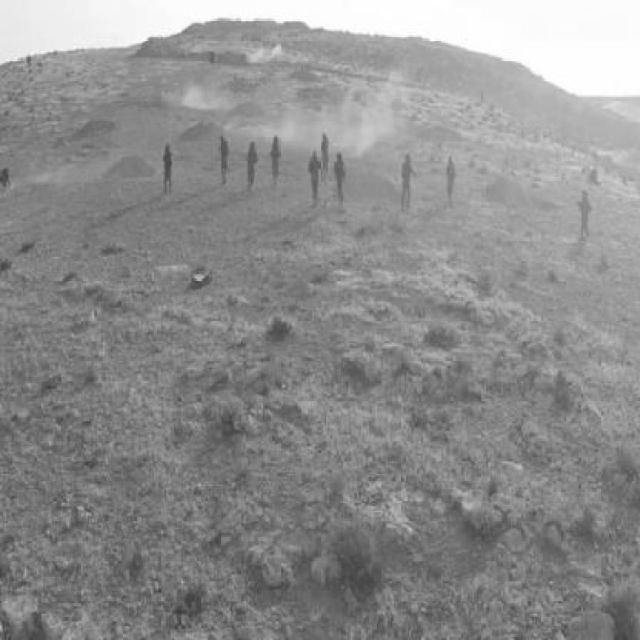Person: (319, 130, 335, 189), (578, 190, 596, 241), (403, 151, 417, 214), (164, 141, 180, 196), (311, 149, 325, 208), (446, 154, 460, 211), (247, 139, 261, 191), (272, 133, 285, 186), (219, 133, 233, 182), (336, 148, 348, 205), (3, 160, 17, 193)
